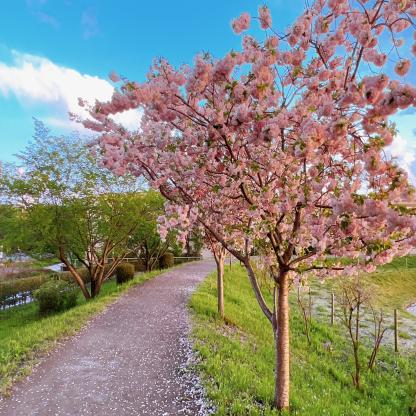YaeSakura: (69, 0, 416, 286), (154, 190, 254, 271)
